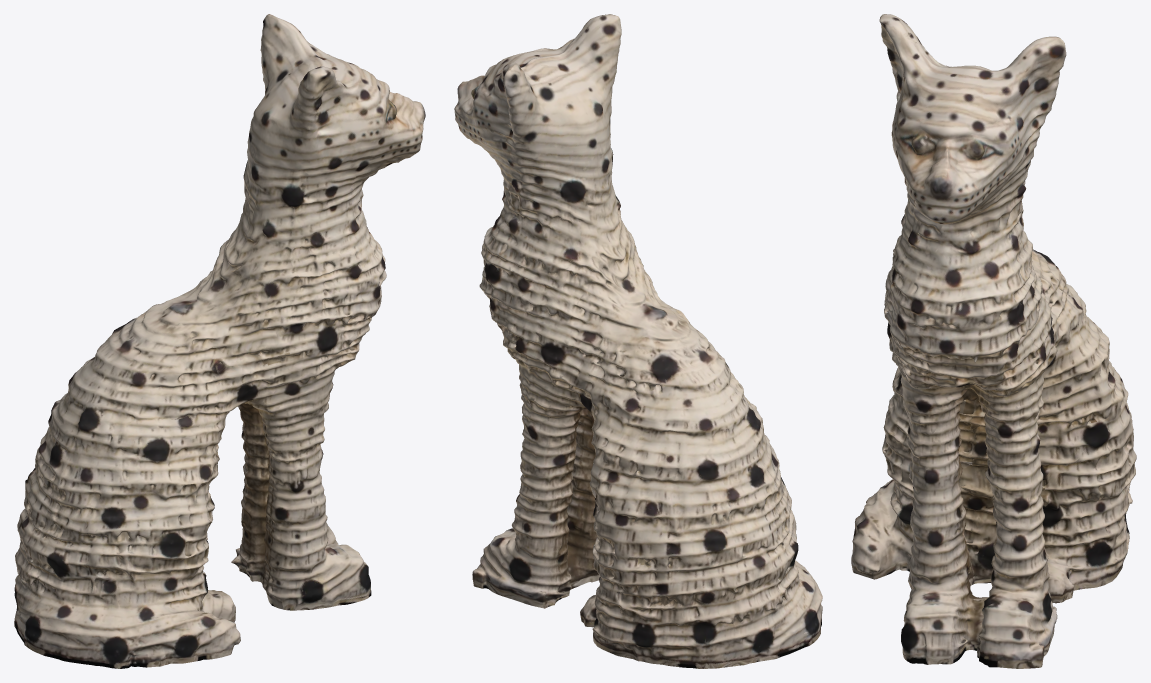
The model's file is yusuf-untitled-cat.glb.
The picture shows the model from 3 angles, left to right: view 1: azimuth 30°, elevation 25°; view 2: azimuth 150°, elevation 25°; view 3: azimuth 270°, elevation 25°; orthographic projection. The views are drawn at different scales.
Parts seen in each view (by area): view 1: Mesh; view 2: Mesh; view 3: Mesh.
Boxes of the visible parts, x1=… form: Mesh: x1=14, y1=14, x2=425, y2=668; Mesh: x1=454, y1=14, x2=822, y2=668; Mesh: x1=851, y1=14, x2=1136, y2=668.
Size of the model in its own units: 23.78 by 32.92 by 13.9.
Materials: 1 (1 with a texture image).
